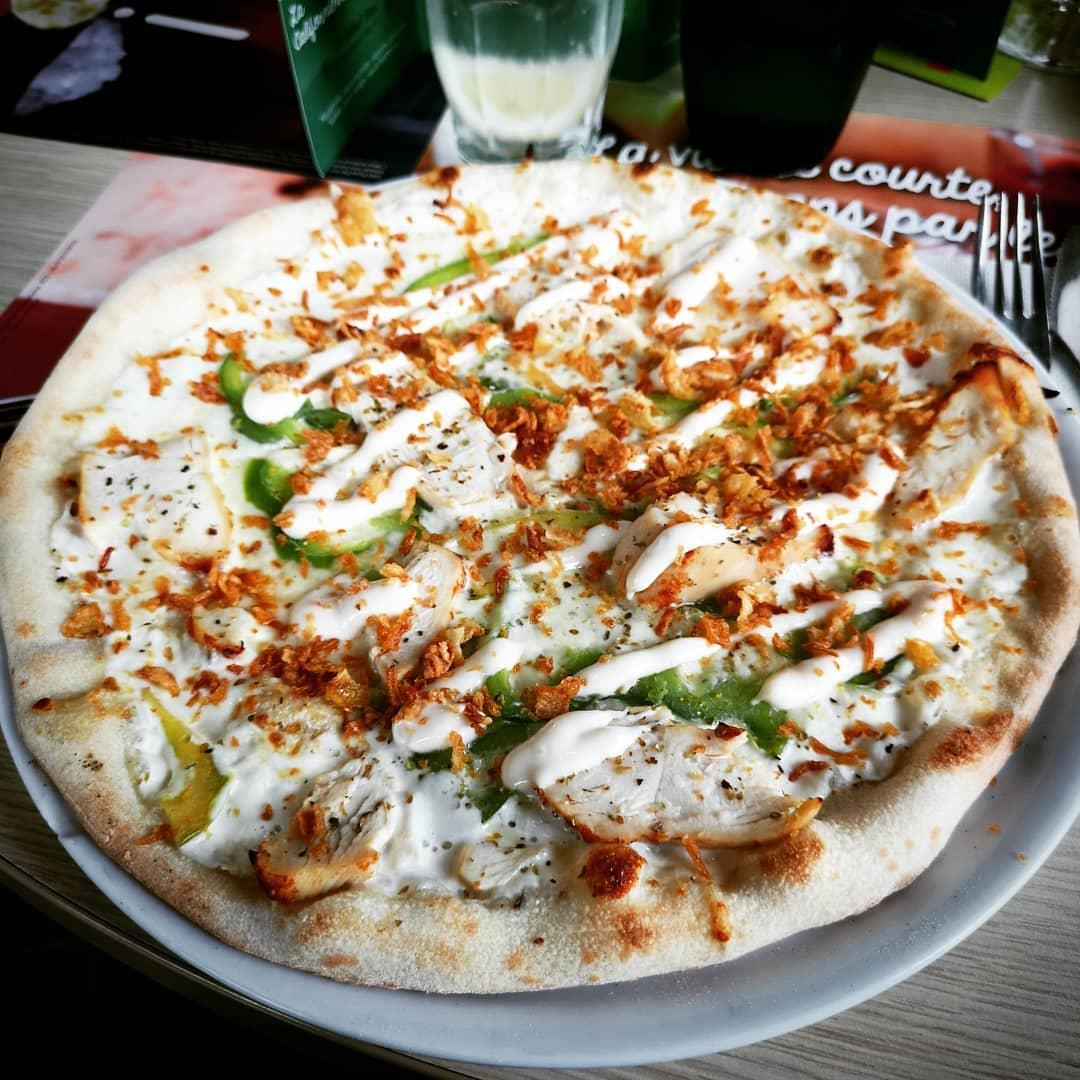Cheese: (91, 381, 236, 562), (351, 399, 509, 508), (607, 219, 760, 289)
Chicken: (526, 756, 832, 849), (288, 547, 469, 665), (892, 362, 1019, 526), (641, 297, 840, 396), (610, 510, 836, 596), (247, 787, 402, 902)
Peppers: (141, 687, 226, 846), (411, 670, 543, 765), (650, 664, 779, 755), (403, 229, 558, 296), (244, 455, 323, 565), (323, 494, 434, 570), (219, 346, 287, 445)
Pizza: (0, 160, 1080, 997)
